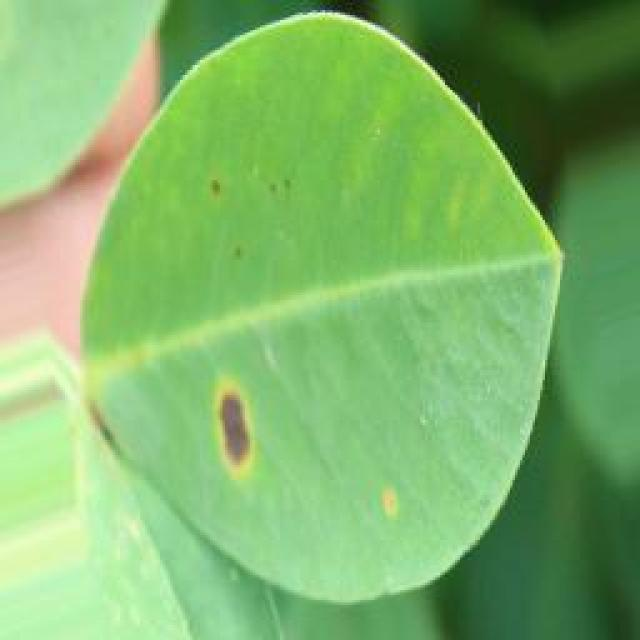Early_leaf_spot: (197, 158, 322, 272), (187, 373, 255, 502), (364, 478, 426, 542)
